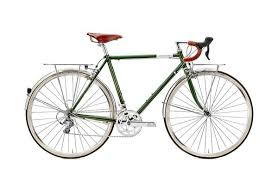bicycle: (10, 22, 262, 165)
